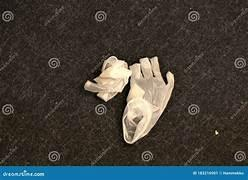Glove: (122, 57, 173, 143), (84, 56, 130, 101)
